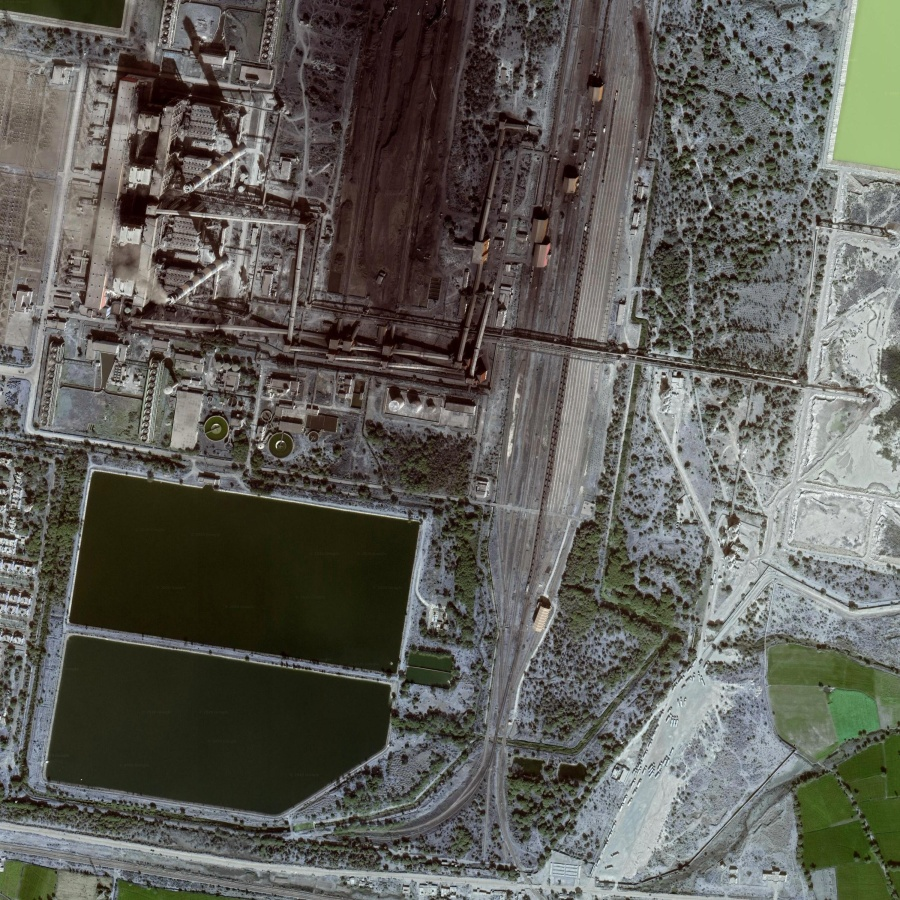PowerPlant: (17, 439, 437, 845)
